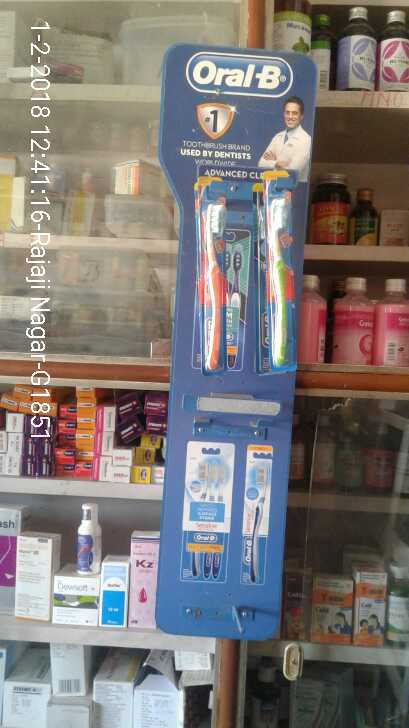oralb: (252, 192, 297, 378), (194, 198, 234, 387)
